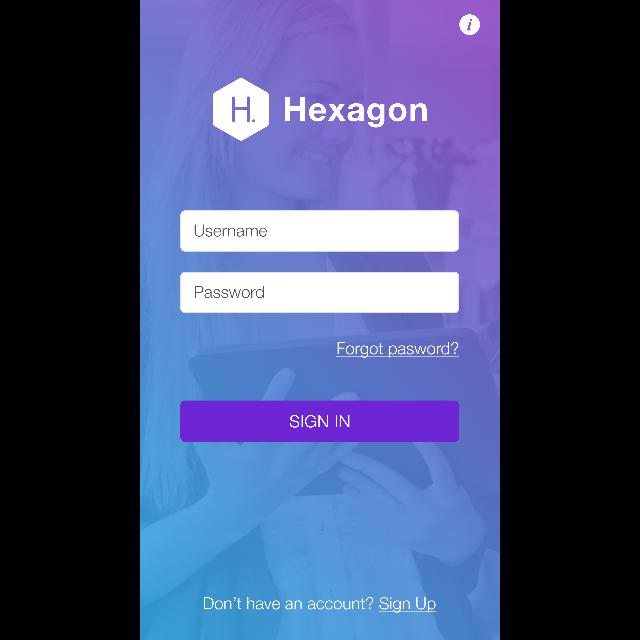backgroundimage: (140, 1, 500, 640)
icon: (460, 14, 480, 36)
image: (213, 78, 269, 142)
input: (180, 210, 460, 252), (180, 272, 460, 312)
text: (285, 98, 427, 128), (204, 597, 436, 613), (336, 342, 459, 358), (195, 225, 267, 237), (196, 286, 264, 298)
textbutton: (180, 400, 460, 442)
